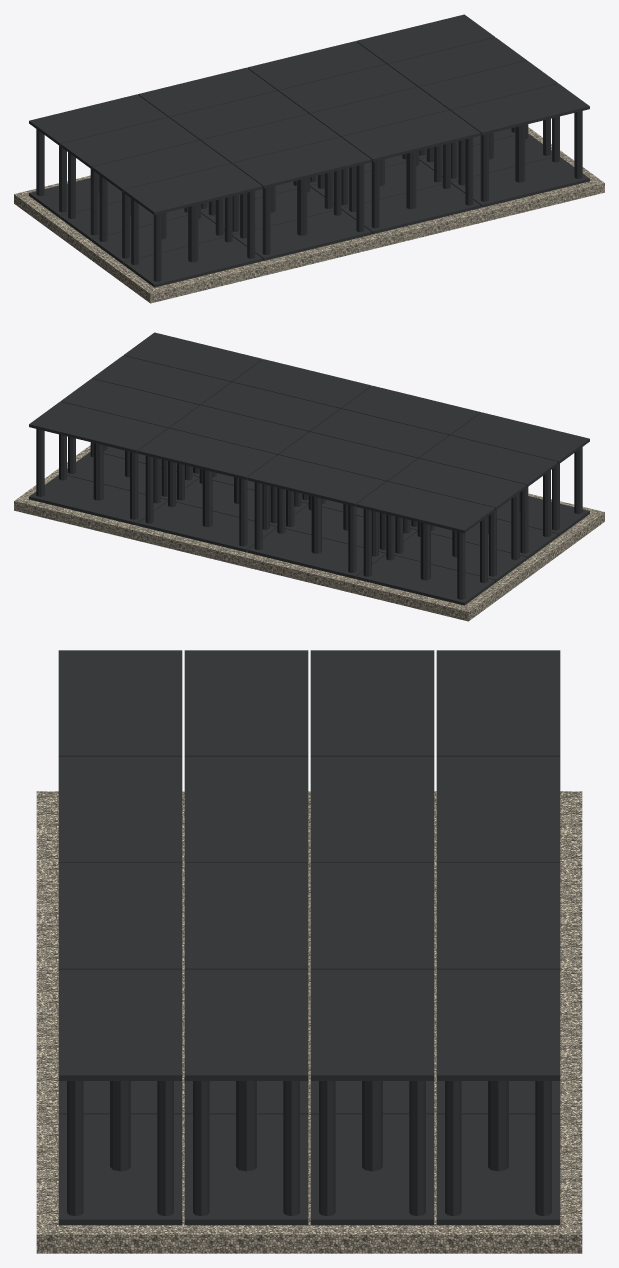
The picture shows the model from 3 angles, top to bottom: view 1: azimuth 30°, elevation 25°; view 2: azimuth 150°, elevation 25°; view 3: azimuth 270°, elevation 25°; orthographic projection. The views are drawn at different scales.
Parts seen in each view (by area): view 1: blok-1.2-0.6-0.8-plastic_dark (×16), accessShaft=false;coverDepth=0.5;height=0.8;installation=und; view 2: blok-1.2-0.6-0.8-plastic_dark (×16), accessShaft=false;coverDepth=0.5;height=0.8;installation=und; view 3: blok-1.2-0.6-0.8-plastic_dark (×16), accessShaft=false;coverDepth=0.5;height=0.8;installation=und.
Part boxes in pixels (x1,y1,x2,y2): blok-1.2-0.6-0.8-plastic_dark (×16): (29,14,589,287); accessShaft=false;coverDepth=0.5;height=0.8;installation=und: (14,127,604,303); blok-1.2-0.6-0.8-plastic_dark (×16): (29,332,589,605); accessShaft=false;coverDepth=0.5;height=0.8;installation=und: (14,445,604,621); blok-1.2-0.6-0.8-plastic_dark (×16): (58,650,560,1225); accessShaft=false;coverDepth=0.5;height=0.8;installation=und: (36,791,582,1253).
Bounding box in the file's own units: 5 × 2.6 × 0.89.
Materials: 2 (1 with a texture image).
